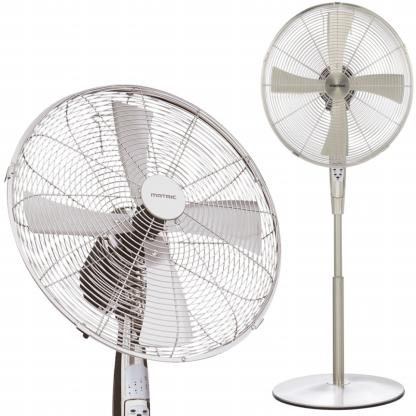fan: (3, 70, 298, 416), (253, 0, 416, 413)
